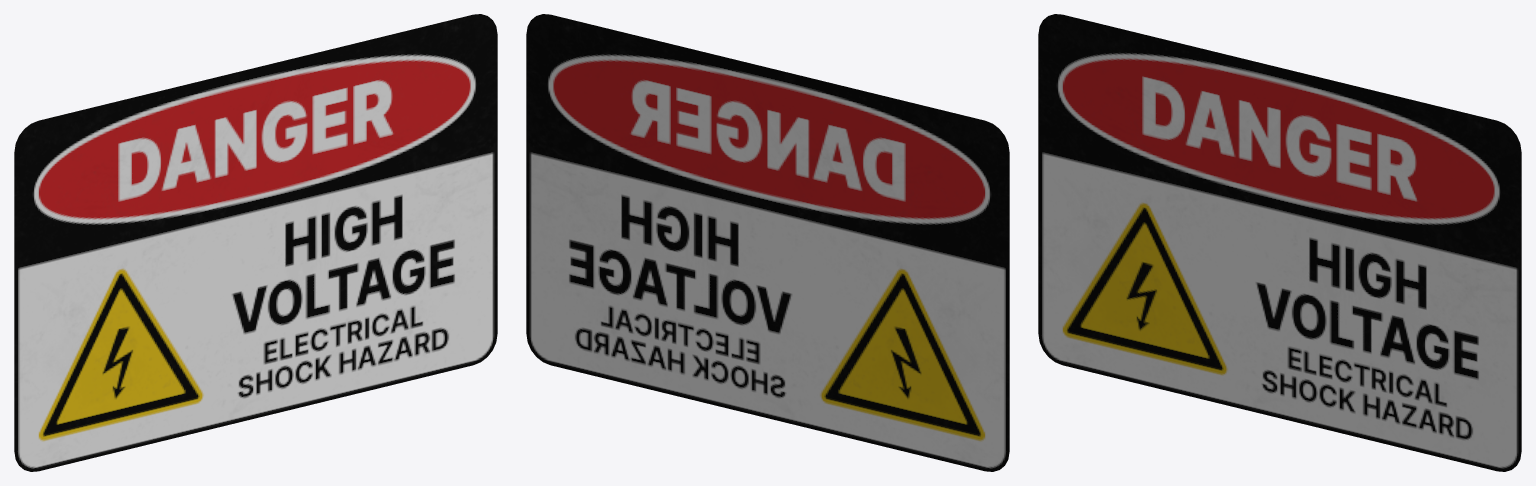
File: SM05_Decals_SafetySign_HighVoltage.fbx
3 renders of one model, left to right at view 1: azimuth 30°, elevation 25°; view 2: azimuth 150°, elevation 25°; view 3: azimuth 330°, elevation 25°, orthographic.
Parts seen in each view (by area): view 1: SM05_Decals_SafetySign_HighVoltage; view 2: SM05_Decals_SafetySign_HighVoltage; view 3: SM05_Decals_SafetySign_HighVoltage.
Boxes of the visible parts, x1,y1,x2,y2 form: SM05_Decals_SafetySign_HighVoltage: [14, 14, 497, 471]; SM05_Decals_SafetySign_HighVoltage: [526, 14, 1009, 471]; SM05_Decals_SafetySign_HighVoltage: [1038, 14, 1521, 471].
Bounding box in the file's own units: 0.8466 × 0.5873 × 9.57e-08.
